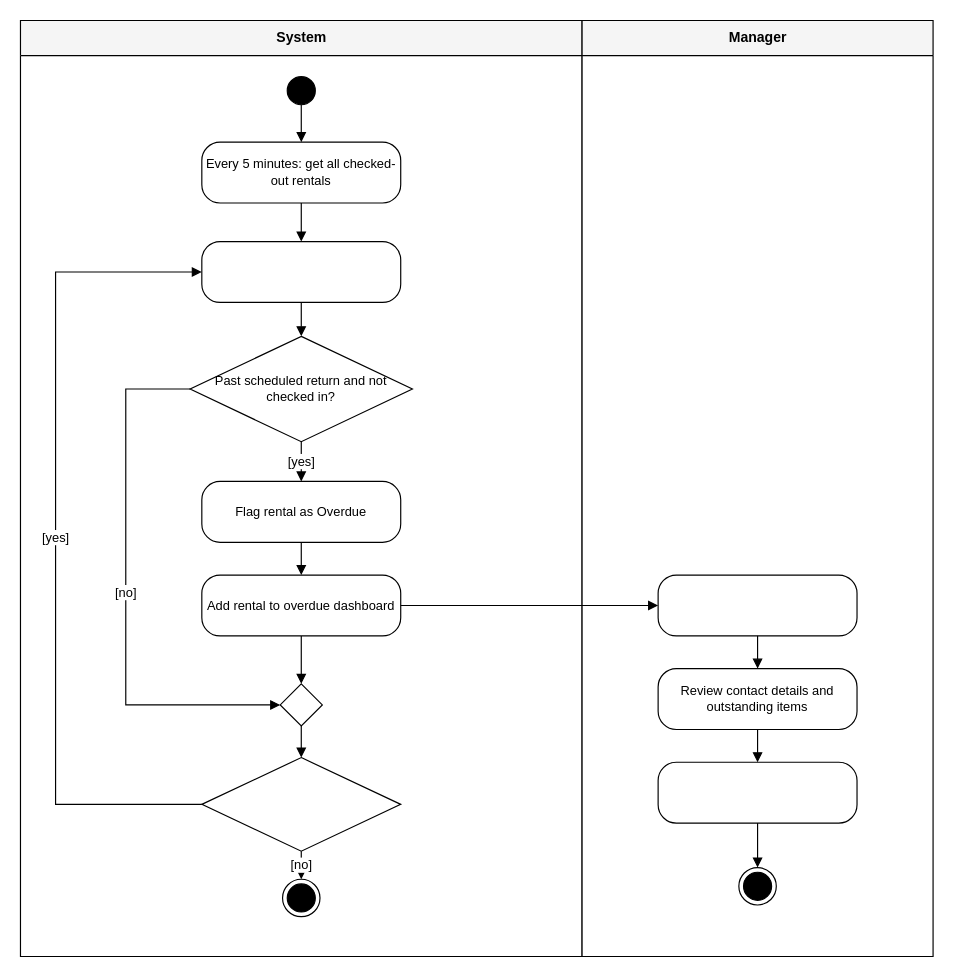
Some shapes in this 954 by 977 pixel diagram are drawn without their labels. Here are the shapes that lost their labels. From the top down, the box of each, then its label:
(201, 240, 401, 302): Evaluate next rental
(657, 574, 857, 636): Open overdue dashboard
(201, 756, 401, 851): More rentals to check?
(657, 761, 857, 823): Contact renter
